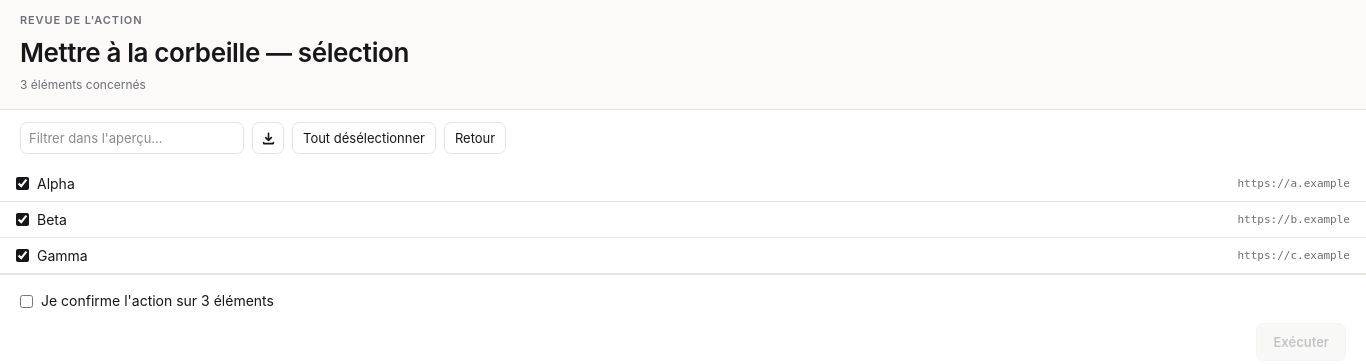
Test: ReviewPage — niveau 1 (corbeille) › compteur exact + désélection item par item met le compteur à jour
expect the text "3 éléments concernés" is shown: met, box [20, 77, 146, 92]
Click the checkbox labelled "Beta https://b.example". click: (22, 220)
box: [16, 213, 29, 226]
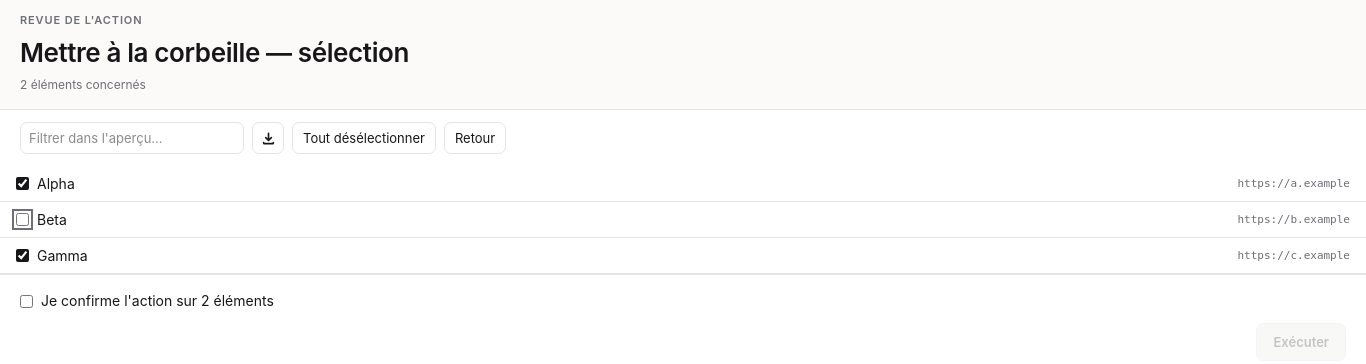
expect the text "2 éléments concernés" is shown: met, box [20, 77, 146, 92]
